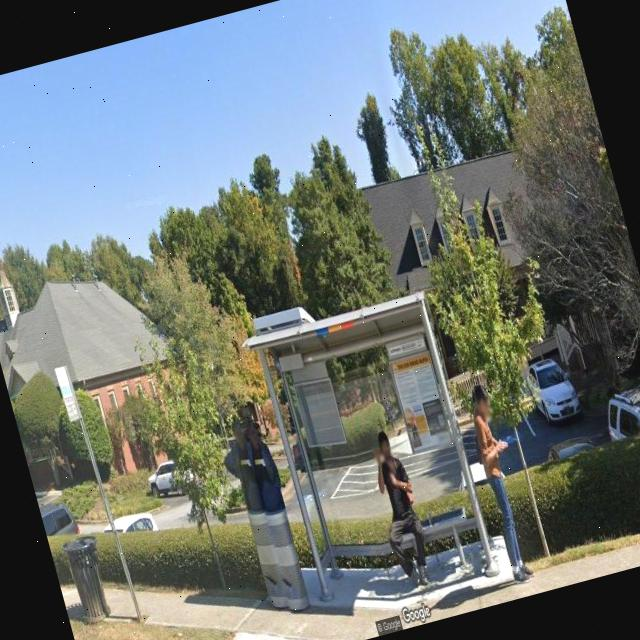seating: (388, 509, 482, 592)
shelter: (240, 283, 503, 626)
trash_can: (245, 498, 312, 618), (64, 538, 113, 624)
